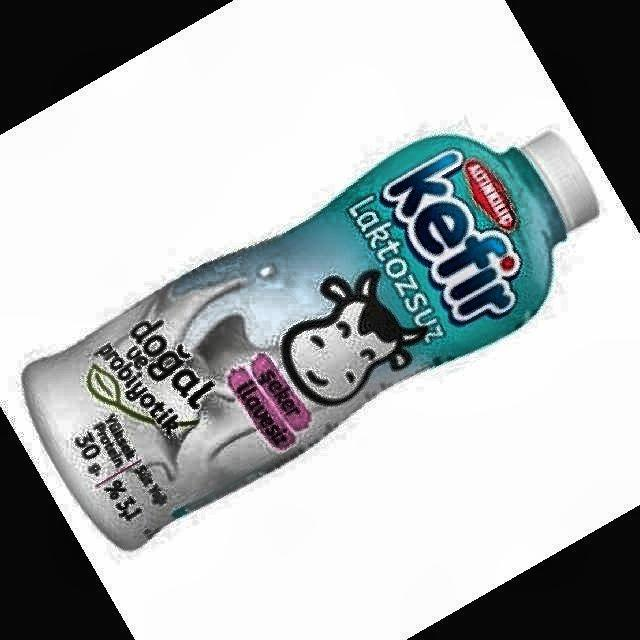plastic: (24, 132, 598, 548)
